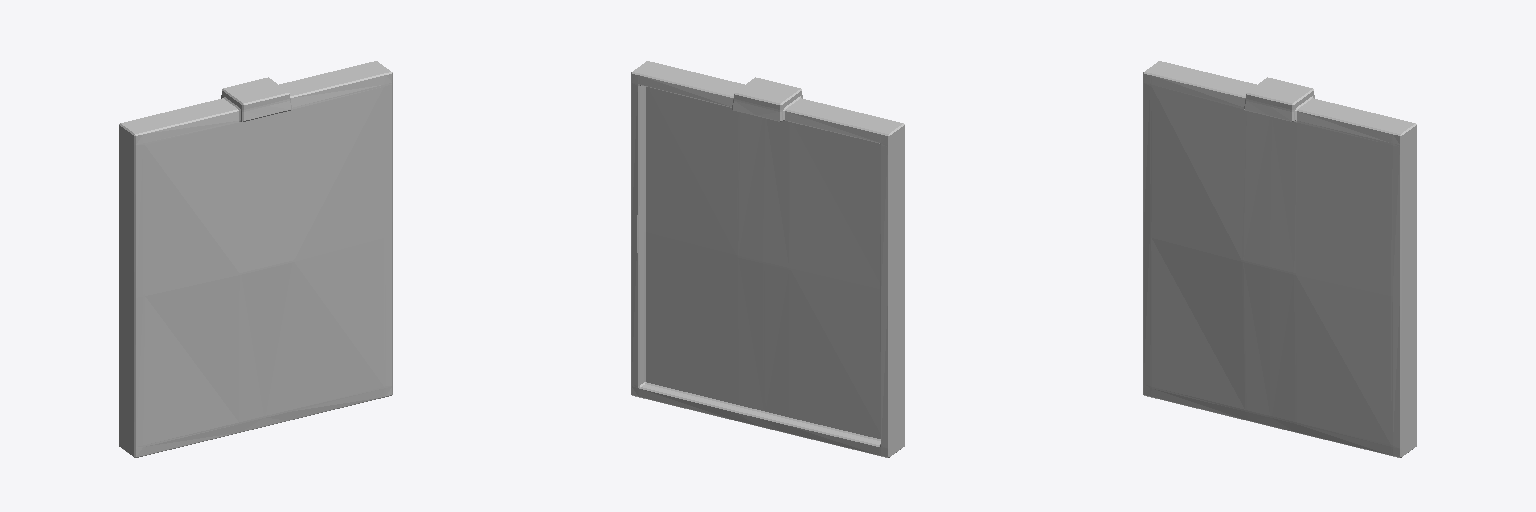
The model's file is FRAME PENGUMUMAN.obj.
The picture shows the model from 3 angles: view 1: azimuth 30°, elevation 25°; view 2: azimuth 150°, elevation 25°; view 3: azimuth 330°, elevation 25°; orthographic projection.
Parts seen in each view (by area): view 1: polySurface45 pCube38; view 2: polySurface45 pCube38; view 3: polySurface45 pCube38.
Part boxes in pixels (left/top/right/bottom): polySurface45 pCube38: left=119, top=61, right=392, bottom=457; polySurface45 pCube38: left=631, top=61, right=904, bottom=457; polySurface45 pCube38: left=1143, top=61, right=1416, bottom=457.
Size of the model in its own units: 1.04 by 1.28 by 0.1649.